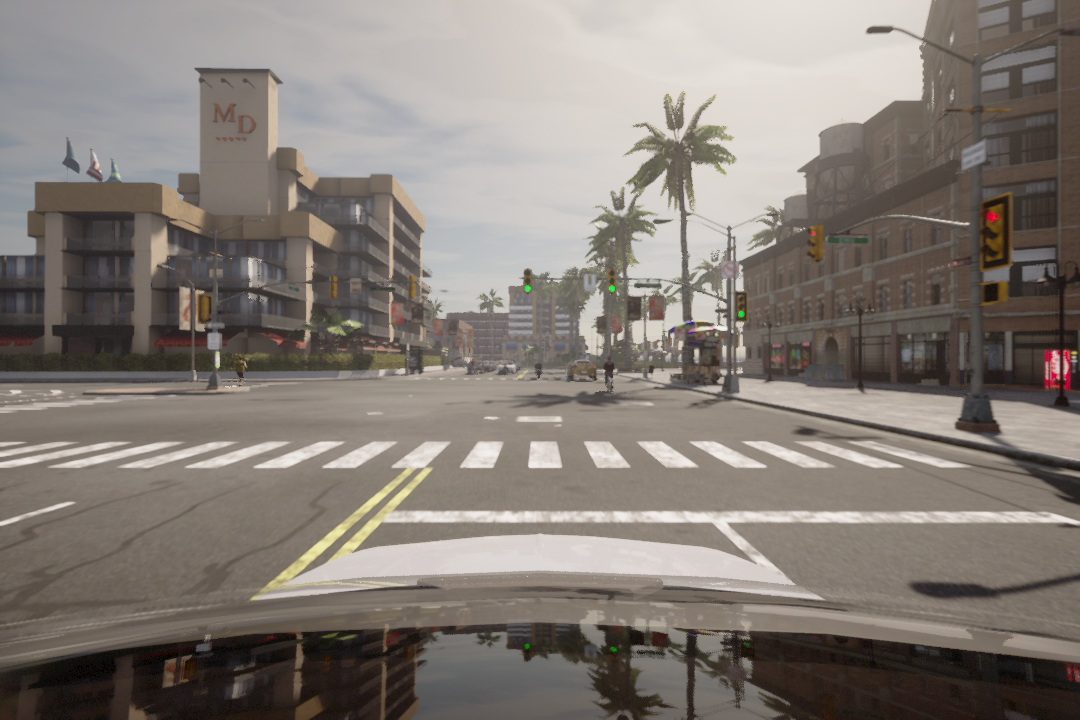TrafficLight: (977, 194, 1011, 266), (805, 224, 829, 263), (732, 291, 750, 323), (522, 268, 533, 295), (608, 267, 618, 295)
TrafficSign: (721, 261, 740, 281)
walkside: (7, 437, 992, 471)
